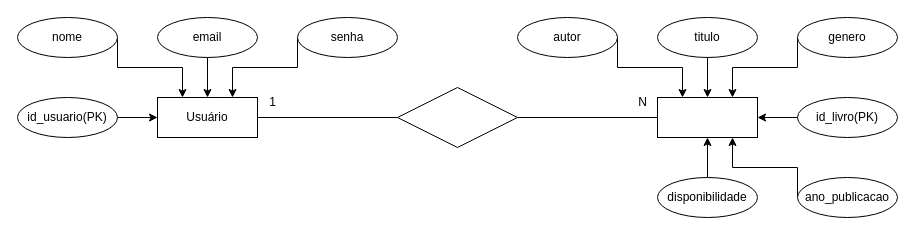
Some shapes in this 915 by 235 pixel diagram are drawn without their labels. Each missing label, with the centre of its shape:
Cadastra: the point at 457,117
Livro: the point at 707,117
